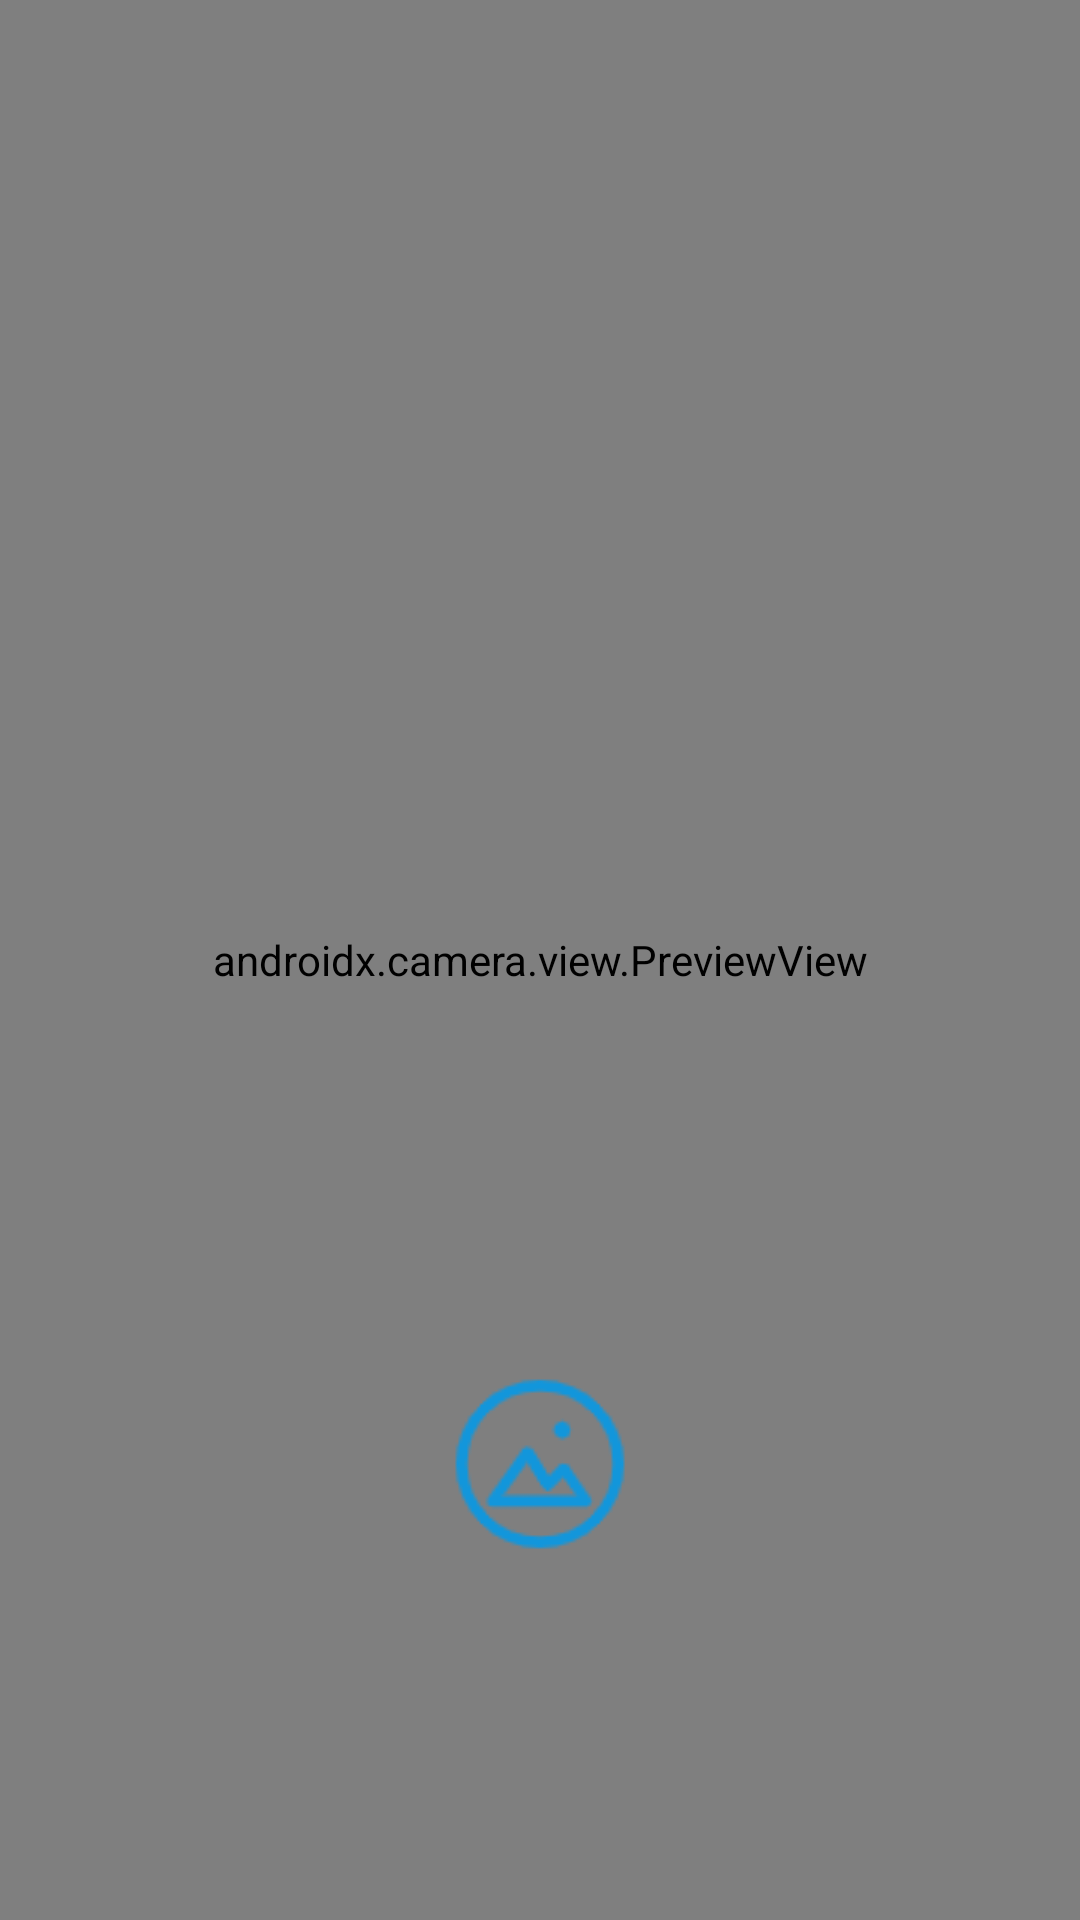

Screen size 1080×1920. Icon name, then its center in pixels as point (x, y):
photo: point (540, 1464)
